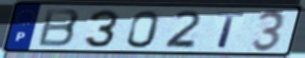0: (124, 9, 163, 50)
2: (163, 9, 203, 50)
3: (250, 8, 288, 54), (83, 8, 121, 49)
B: (36, 7, 83, 48)
T: (215, 12, 248, 50)
